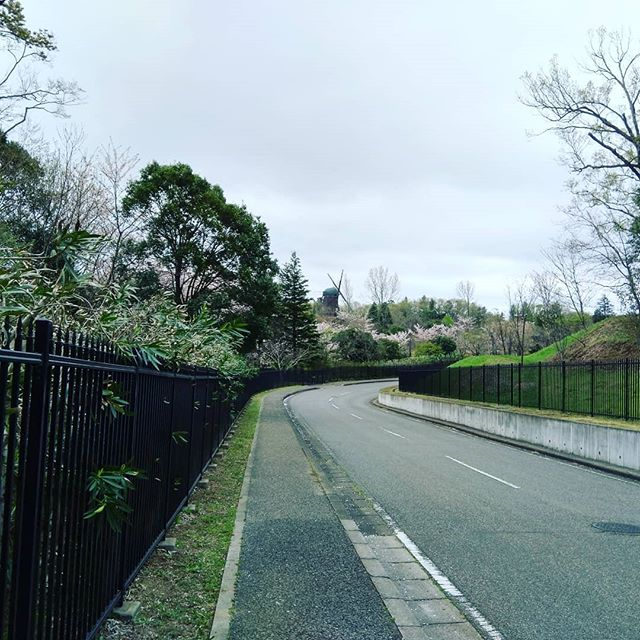sky: (51, 1, 640, 273)
tree: (137, 372, 640, 638), (102, 166, 286, 373), (539, 40, 640, 320)
